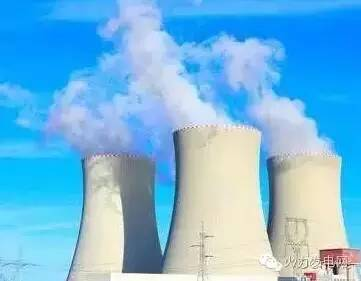dust: (231, 64, 348, 161), (138, 44, 252, 137), (34, 82, 159, 163)
